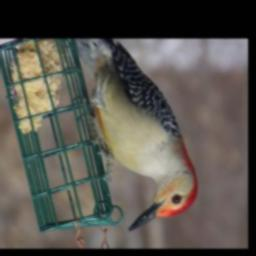Woodpecker: (77, 40, 197, 232)
